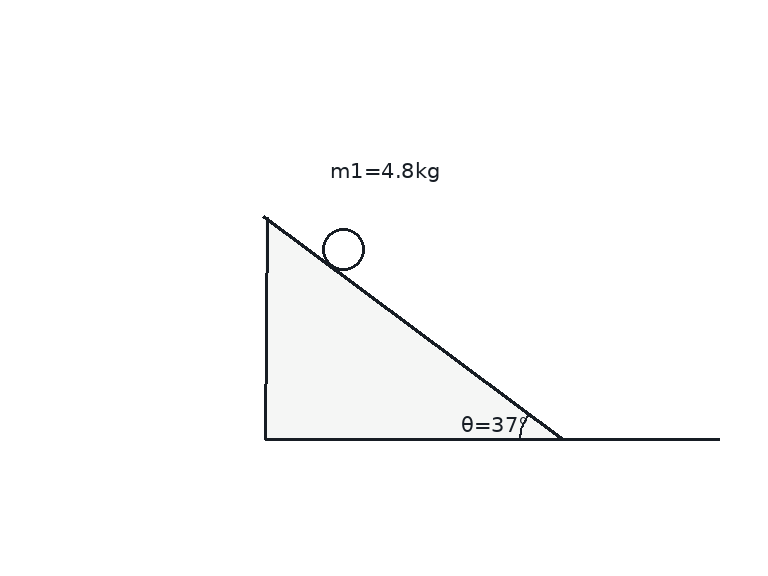ball: (320, 226, 366, 272)
ramp: (263, 215, 562, 441)
